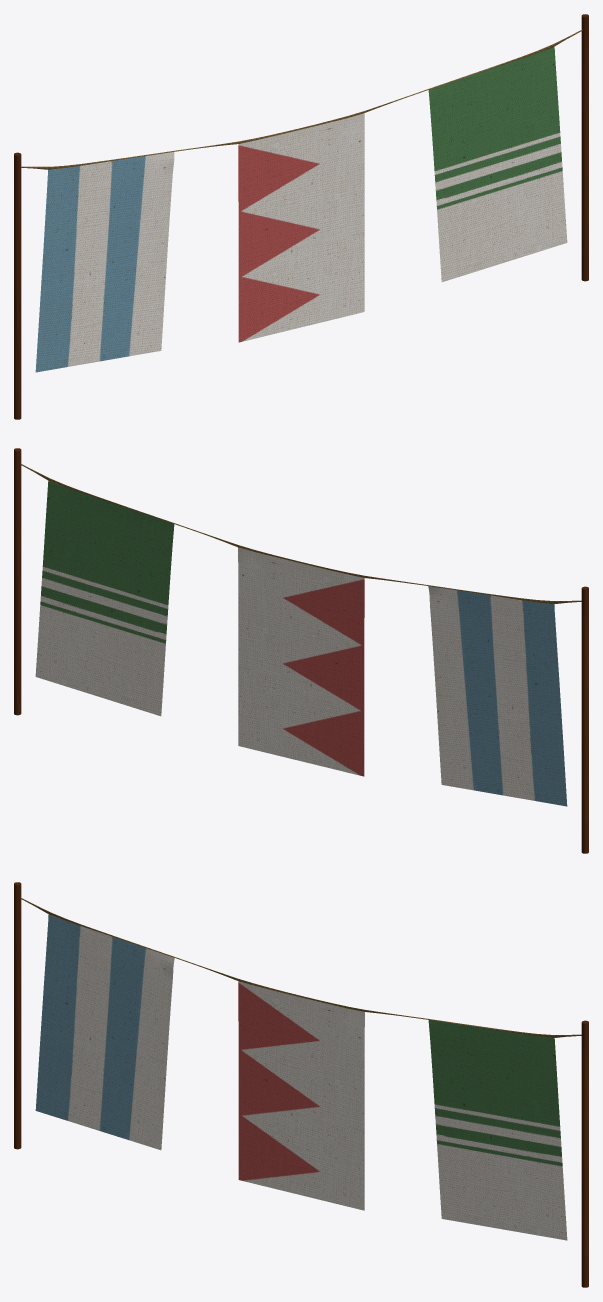
The model's file is Tibetan_Flags.fbx.
The picture shows the model from 3 angles, top to bottom: view 1: azimuth 30°, elevation 25°; view 2: azimuth 150°, elevation 25°; view 3: azimuth 330°, elevation 25°; orthographic projection.
Visible parts, largest first — view 1: pCylinder3; view 2: pCylinder3; view 3: pCylinder3.
Part boxes in pixels (x1=…): pCylinder3: x1=14, y1=14, x2=588, y2=419; pCylinder3: x1=14, y1=448, x2=588, y2=853; pCylinder3: x1=14, y1=882, x2=588, y2=1287.
Size of the model in its own units: 910 by 400 by 10.
1 material, 1 textured.
